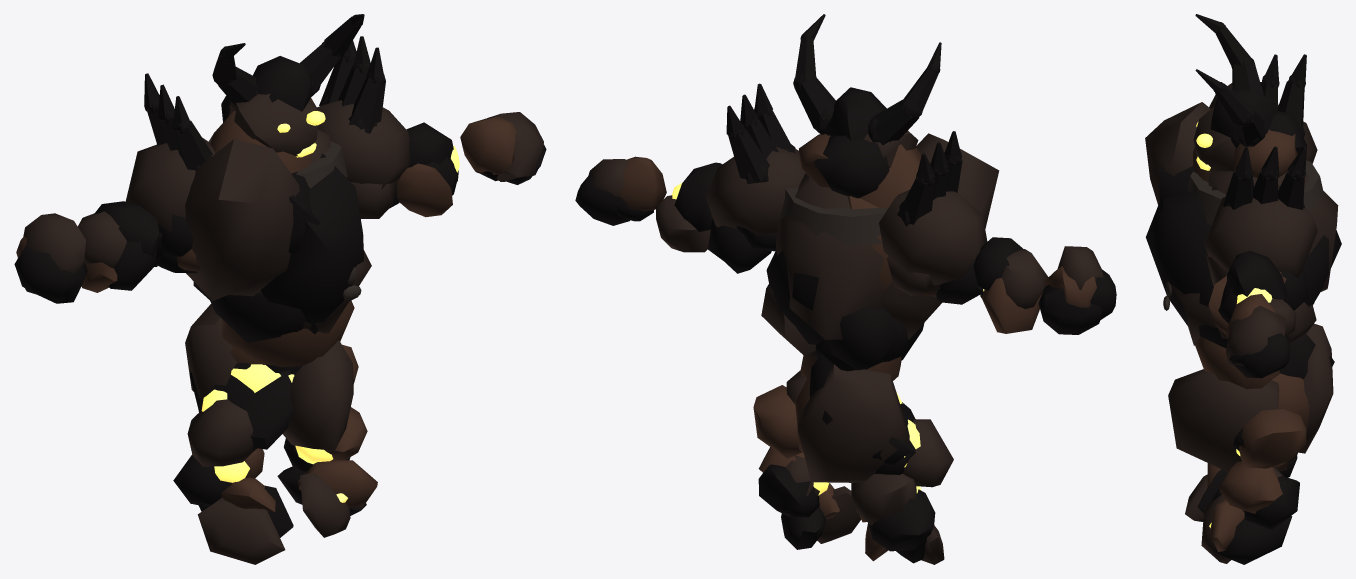
File: boss_warden-CDT_dCbo.glb
The picture shows the model from 3 angles, left to right: view 1: azimuth 30°, elevation 25°; view 2: azimuth 150°, elevation 25°; view 3: azimuth 270°, elevation 25°; orthographic projection. The views are drawn at different scales.
Parts seen in each view (by area): view 1: chest__Rock, hips__Rock, head__Rock, spine__Rock, lowerarmr__Rock, footr__Rock, handr__Rock, footl__Rock, handl__Rock, lowerarml__Rock, upperlegr__Rock, lowerlegr__Rock (+5 smaller); view 2: chest__Rock, head__Rock, hips__Rock, spine__Rock, lowerarmr__Rock, handr__Rock, lowerlegr__Rock, handl__Rock, lowerarml__Rock, chest__Collar, lowerlegl__Rock, footl__Rock (+5 smaller); view 3: chest__Rock, hips__Rock, head__Rock, handl__Rock, lowerlegl__Rock, footl__Rock, lowerarml__Rock, upperlegl__Rock, spine__Rock, chest__Collar, footr__Rock, upperarml__Rock (+1 smaller).
Boxes of the visible parts, bbox=[...] form: chest__Rock: bbox=[126, 36, 410, 334]; hips__Rock: bbox=[185, 304, 353, 450]; head__Rock: bbox=[212, 14, 364, 157]; spine__Rock: bbox=[193, 250, 371, 367]; lowerarmr__Rock: bbox=[78, 201, 163, 292]; footr__Rock: bbox=[197, 477, 293, 564]; handr__Rock: bbox=[14, 213, 87, 303]; footl__Rock: bbox=[277, 460, 377, 537]; handl__Rock: bbox=[460, 112, 546, 184]; lowerarml__Rock: bbox=[397, 122, 458, 217]; upperlegr__Rock: bbox=[187, 399, 256, 466]; lowerlegr__Rock: bbox=[173, 448, 264, 505]; chest__Rock: bbox=[705, 83, 999, 344]; head__Rock: bbox=[793, 14, 941, 198]; hips__Rock: bbox=[786, 353, 915, 482]; spine__Rock: bbox=[761, 284, 924, 380]; lowerarmr__Rock: bbox=[973, 237, 1048, 333]; handr__Rock: bbox=[1038, 246, 1116, 334]; lowerlegr__Rock: bbox=[851, 473, 935, 551]; handl__Rock: bbox=[575, 156, 666, 225]; lowerarml__Rock: bbox=[656, 162, 722, 252]; chest__Collar: bbox=[780, 186, 887, 246]; lowerlegl__Rock: bbox=[758, 447, 819, 517]; footl__Rock: bbox=[781, 483, 861, 549]; chest__Rock: bbox=[1145, 54, 1341, 348]; hips__Rock: bbox=[1168, 323, 1334, 472]; head__Rock: bbox=[1193, 14, 1307, 178]; handl__Rock: bbox=[1225, 294, 1290, 378]; lowerlegl__Rock: bbox=[1219, 461, 1299, 529]; footl__Rock: bbox=[1201, 495, 1292, 564]; lowerarml__Rock: bbox=[1208, 251, 1296, 335]; upperlegl__Rock: bbox=[1232, 409, 1306, 468]; spine__Rock: bbox=[1171, 285, 1316, 389]; chest__Collar: bbox=[1163, 160, 1324, 310]; footr__Rock: bbox=[1185, 463, 1228, 521]; upperarml__Rock: bbox=[1205, 253, 1308, 310].
Size of the model in its own units: 1.97 by 1.88 by 0.6671.
